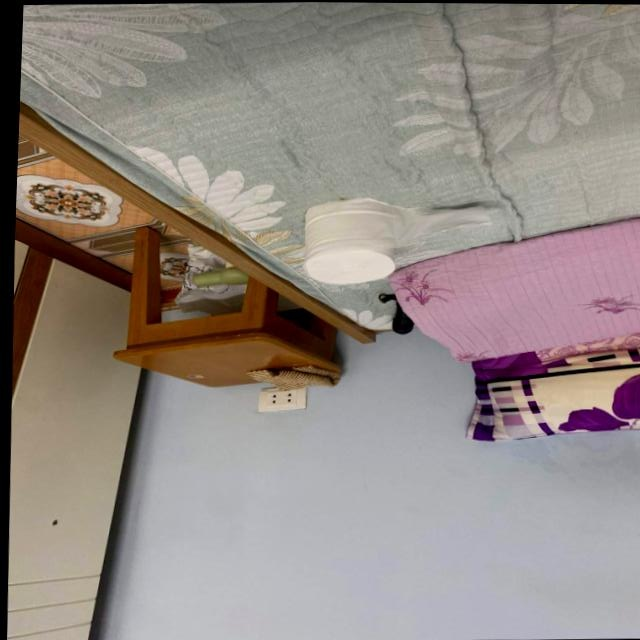outlet: (256, 387, 306, 414)
